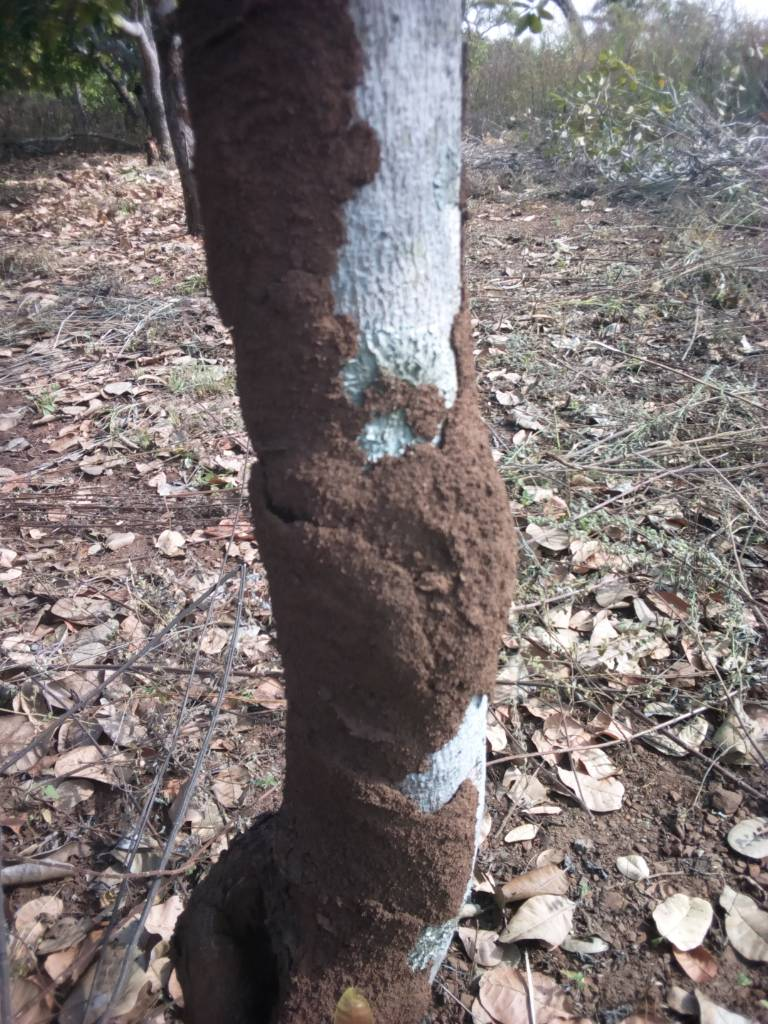Termites: (264, 457, 512, 1017), (206, 20, 376, 449)
